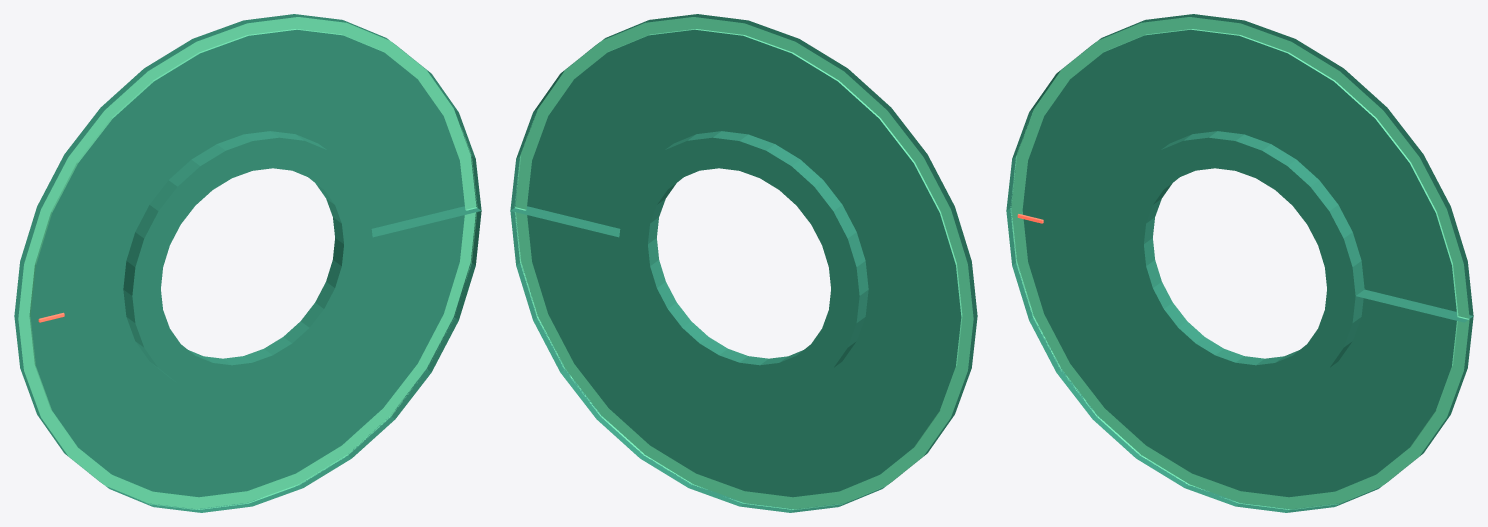
File: bio-panel-fun8-low.glb
The picture shows the model from 3 angles, left to right: view 1: azimuth 30°, elevation 25°; view 2: azimuth 150°, elevation 25°; view 3: azimuth 330°, elevation 25°; orthographic projection.
Parts seen in each view (by area): view 1: RENDER_PANEL_SHELL, RENDER_PANEL_FRAME; view 2: RENDER_PANEL_SHELL, RENDER_PANEL_FRAME; view 3: RENDER_PANEL_SHELL, RENDER_PANEL_FRAME.
Part boxes in pixels (x1,y1,x2,y2): RENDER_PANEL_SHELL: (14,14,481,512); RENDER_PANEL_FRAME: (18,17,477,509); RENDER_PANEL_SHELL: (510,14,977,512); RENDER_PANEL_FRAME: (514,17,973,509); RENDER_PANEL_SHELL: (1006,14,1473,512); RENDER_PANEL_FRAME: (1010,17,1469,509).
Size of what is drawn, in the model's own units: 41 by 41 by 1.81.
